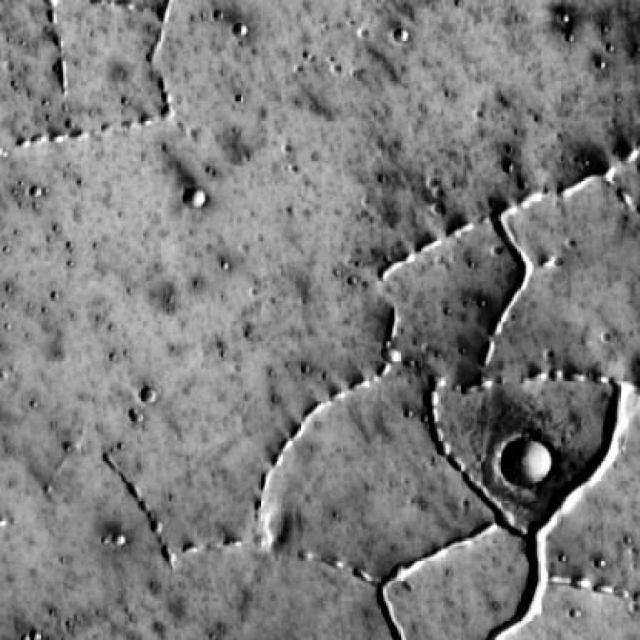crater: (498, 436, 556, 490), (182, 187, 204, 208), (140, 387, 158, 402)
